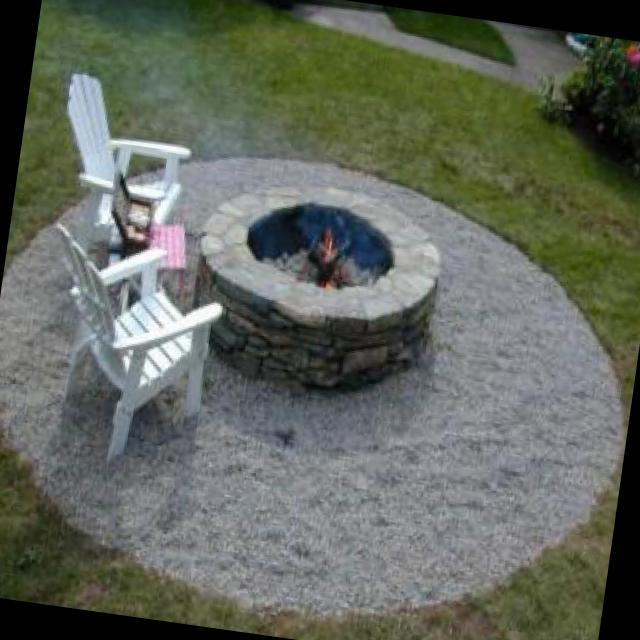fire: (315, 224, 349, 286)
smoke: (294, 195, 328, 252)
